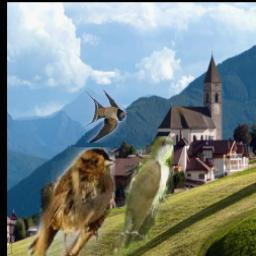Cuckoo: (111, 136, 175, 256)
Sparrow: (28, 147, 116, 256)
Swallow: (80, 90, 126, 144)
